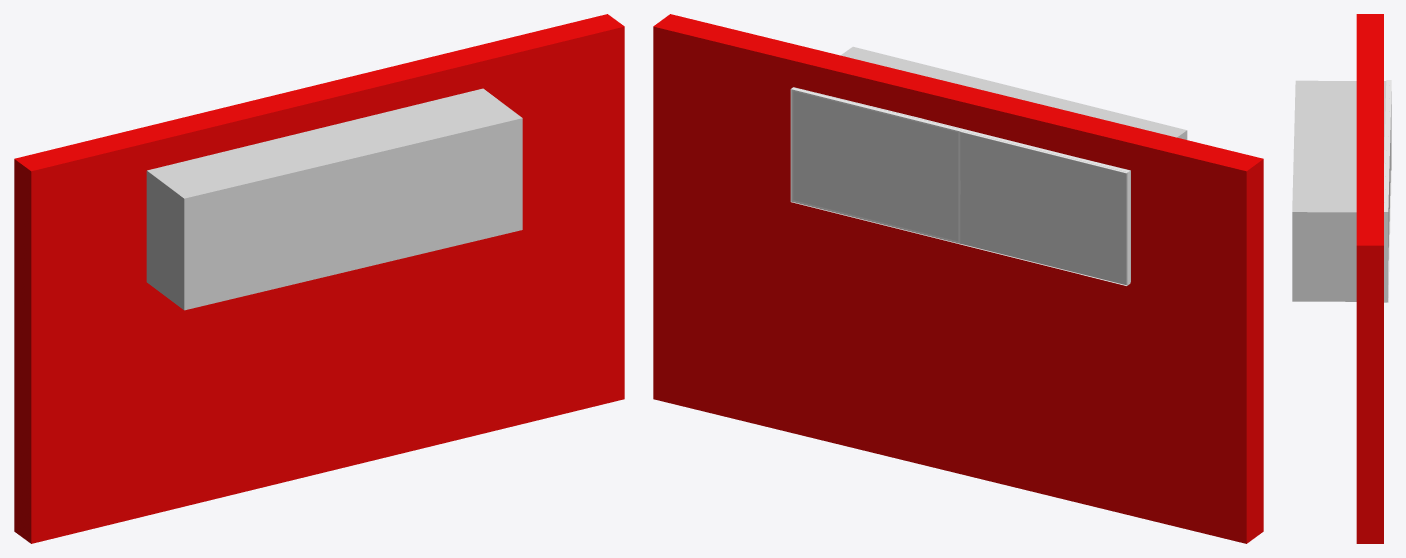
Rendered from BathroomWall.fbx.
The picture shows the model from 3 angles, left to right: view 1: azimuth 30°, elevation 25°; view 2: azimuth 150°, elevation 25°; view 3: azimuth 270°, elevation 25°; orthographic projection. The views are drawn at different scales.
Parts seen in each view (by area): view 1: Wall__3_, Cube; view 2: Wall__3_, Cube, kitchen.043, kitchen.042; view 3: Wall__3_, Cube, kitchen.043, kitchen.042.
Boxes of the visible parts, left/top/right/bottom form: Wall__3_: left=14, top=14, right=624, bottom=543; Cube: left=146, top=88, right=522, bottom=310; Wall__3_: left=653, top=14, right=1263, bottom=543; Cube: left=793, top=46, right=1187, bottom=285; kitchen.043: left=790, top=87, right=1130, bottom=285; kitchen.042: left=791, top=88, right=1129, bottom=284; Wall__3_: left=1356, top=14, right=1383, bottom=543; Cube: left=1292, top=80, right=1390, bottom=301; kitchen.043: left=1384, top=80, right=1391, bottom=302; kitchen.042: left=1385, top=80, right=1388, bottom=302.
Bounding box in the file's own units: 500 × 300 × 90.8.
